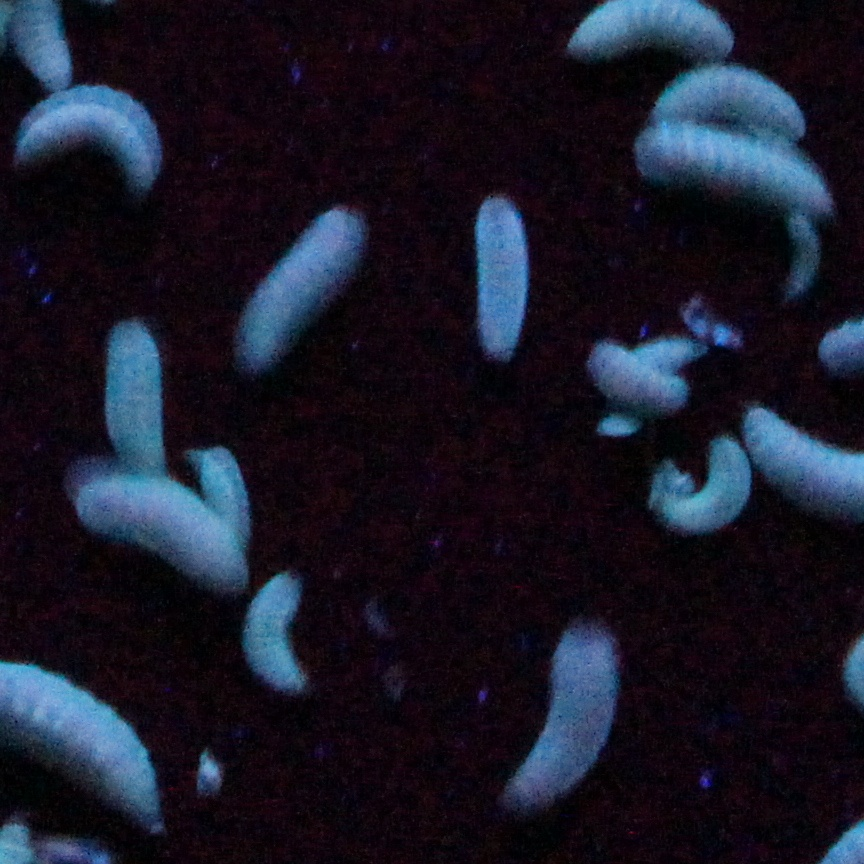larve: (76, 472, 250, 599), (507, 621, 614, 814), (241, 212, 361, 376), (632, 121, 825, 212), (21, 88, 161, 192), (650, 436, 758, 543), (101, 316, 167, 474), (476, 194, 532, 363), (587, 336, 701, 419), (243, 574, 305, 685), (196, 439, 245, 534), (790, 214, 823, 299), (634, 336, 706, 372)
